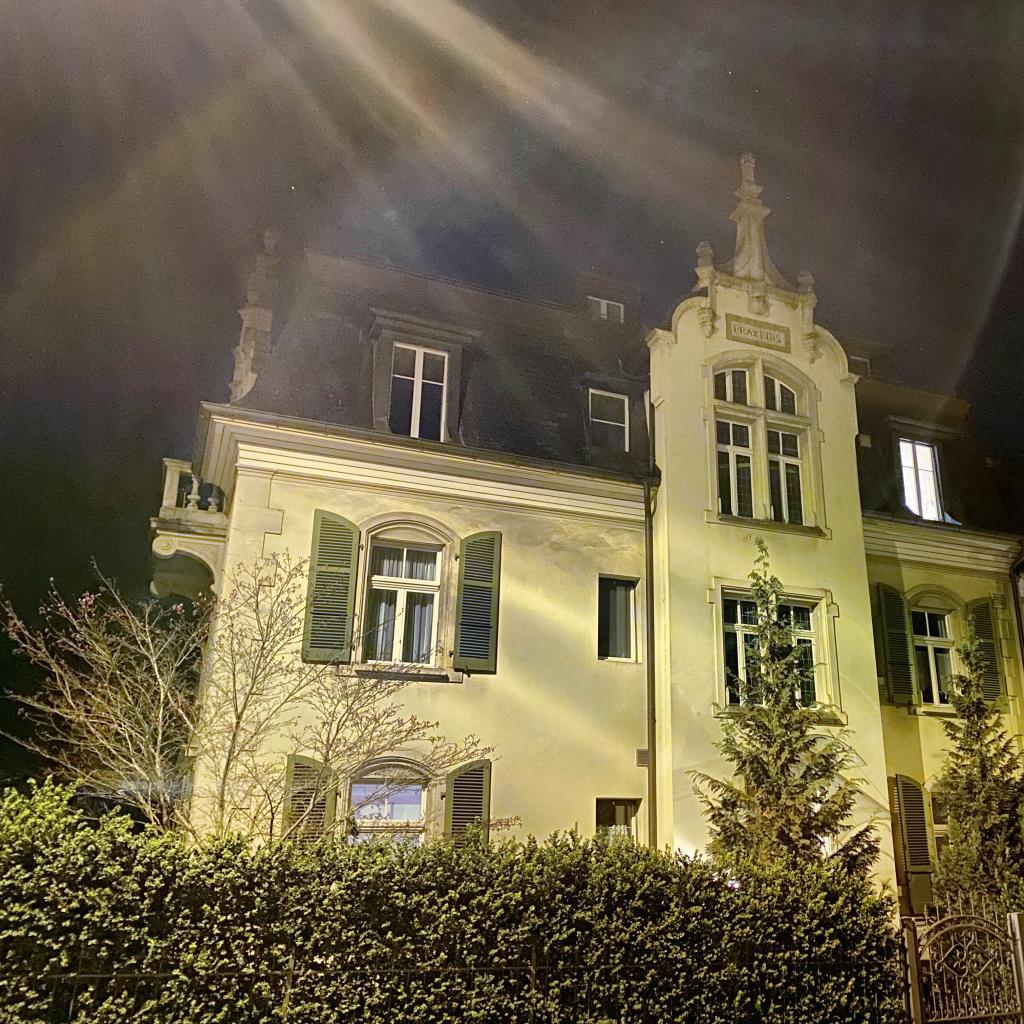facade: (148, 150, 1024, 921)
fence: (902, 887, 1024, 1024)
vegetation: (0, 529, 1024, 1024)
window: (877, 581, 1007, 705), (714, 367, 806, 524), (359, 523, 448, 667), (723, 597, 819, 709), (349, 765, 428, 864), (390, 342, 449, 442), (895, 773, 952, 873), (900, 439, 944, 522), (598, 576, 636, 662), (590, 388, 629, 452), (597, 800, 635, 835), (588, 295, 624, 323)
